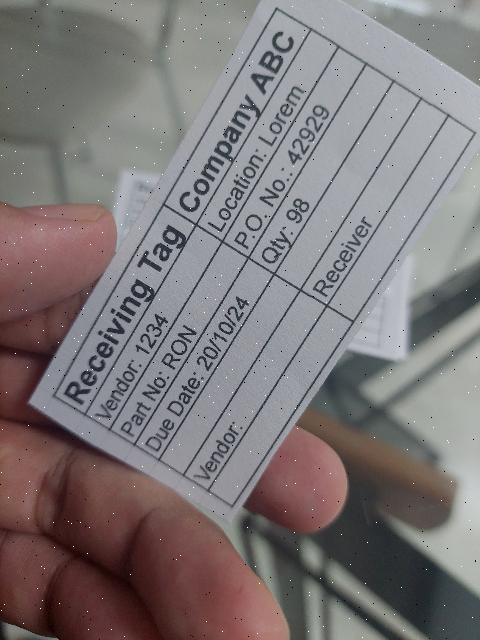PO no: (223, 44, 368, 260)
part no: (110, 242, 248, 445)
qty: (249, 61, 395, 275)
tags: (25, 0, 480, 532)
